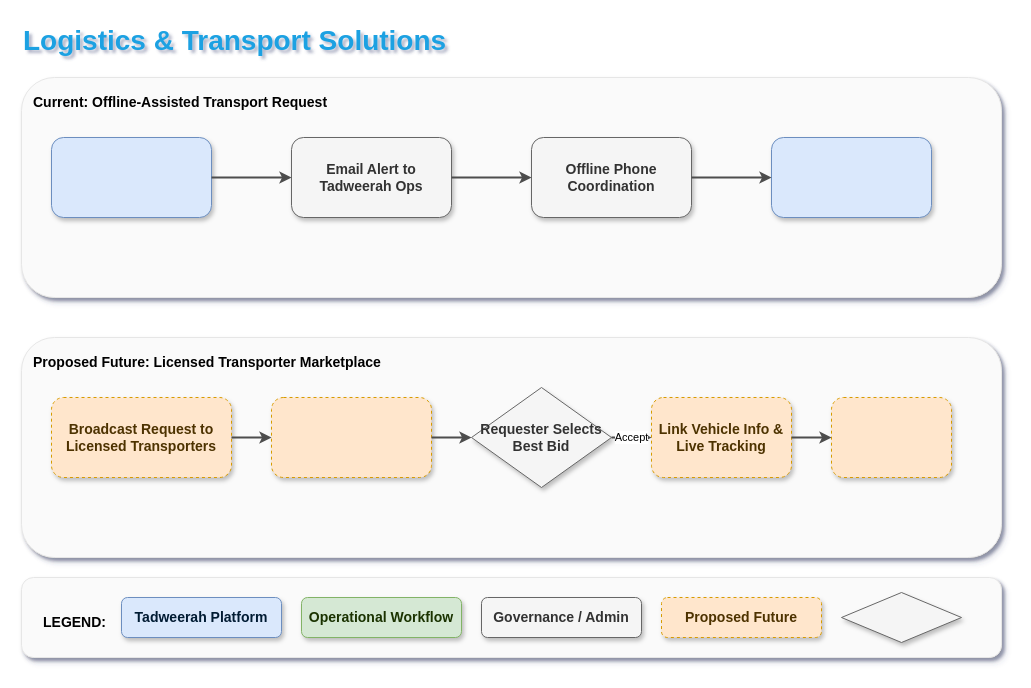
This 1031x688 diagram has some shape labels left out. Each missing label, with the centre of its shape:
Admin Manually Updates Status: the point at 852,178
Decision Gate: the point at 902,619
Delivery Confirmed: the point at 892,438
Transporters Submit Bids: the point at 352,438
User Submits Transport Request: the point at 132,178
